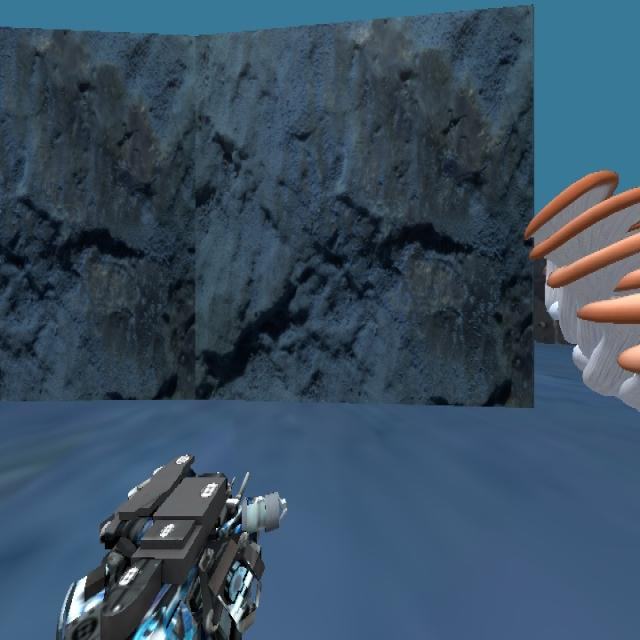Mushroom: (524, 168, 639, 412)
